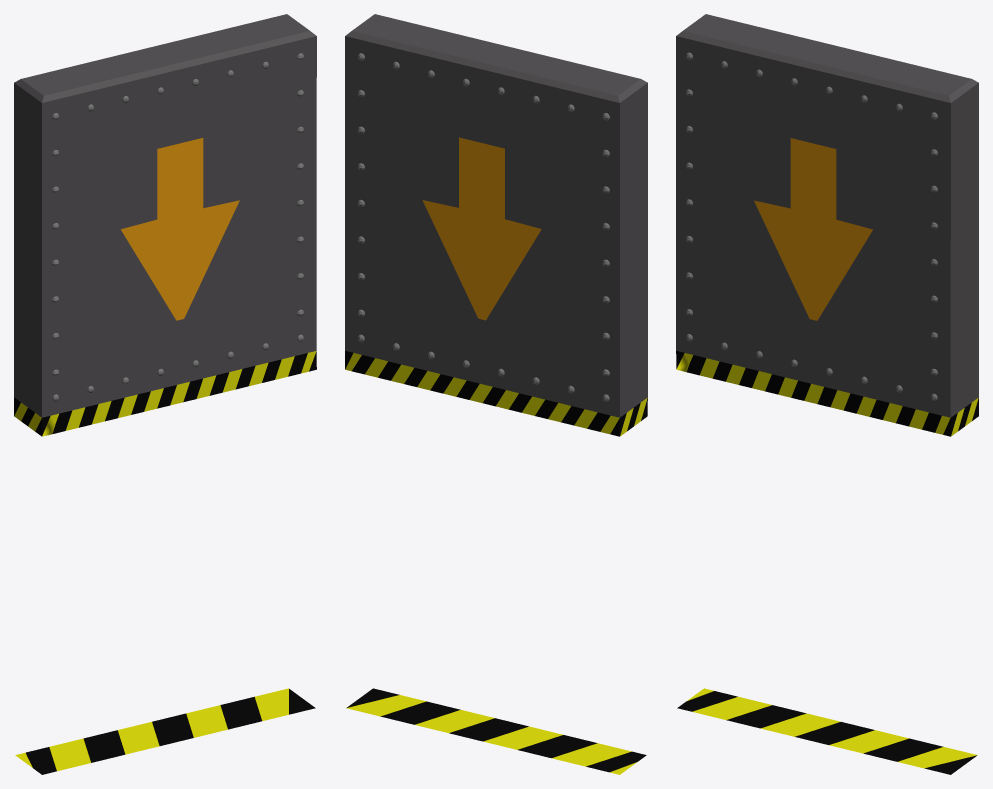
Rendered from MetalWallYellow.glb.
The picture shows the model from 3 angles, left to right: view 1: azimuth 30°, elevation 25°; view 2: azimuth 150°, elevation 25°; view 3: azimuth 330°, elevation 25°; orthographic projection.
Parts seen in each view (by area): view 1: Cube.001, Plane.003, Cube.002; view 2: Cube.001, Plane.002, Cube.002; view 3: Cube.001, Plane.003, Cube.002.
Part boxes in pixels (x1=…): Cube.001: x1=14, y1=14, x2=316, y2=436; Plane.003: x1=121, y1=138, x2=239, y2=320; Cube.002: x1=15, y1=688, x2=315, y2=774; Cube.001: x1=345, y1=14, x2=647, y2=436; Plane.002: x1=422, y1=137, x2=541, y2=320; Cube.002: x1=346, y1=688, x2=646, y2=774; Cube.001: x1=676, y1=14, x2=978, y2=436; Plane.003: x1=754, y1=138, x2=872, y2=320; Cube.002: x1=677, y1=688, x2=977, y2=774.
Size of the model in its own units: 1.92 by 4.51 by 0.3747.
